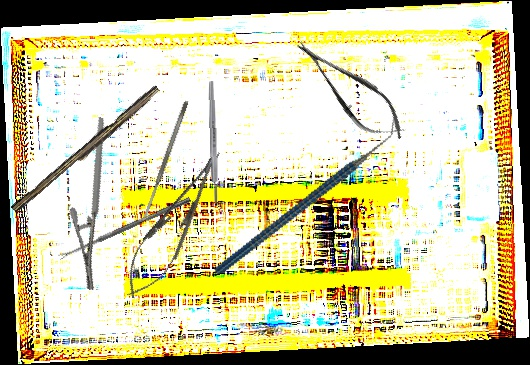Chopper: (186, 115, 428, 275)
Micro Scissor: (285, 25, 416, 155)
Needle Holder: (35, 116, 158, 292), (114, 142, 235, 307)
Scalpel Handle: (10, 82, 163, 218), (207, 80, 220, 205)
Spatula Surgical: (140, 99, 190, 223)
Surgical Spoon: (57, 196, 192, 260)
